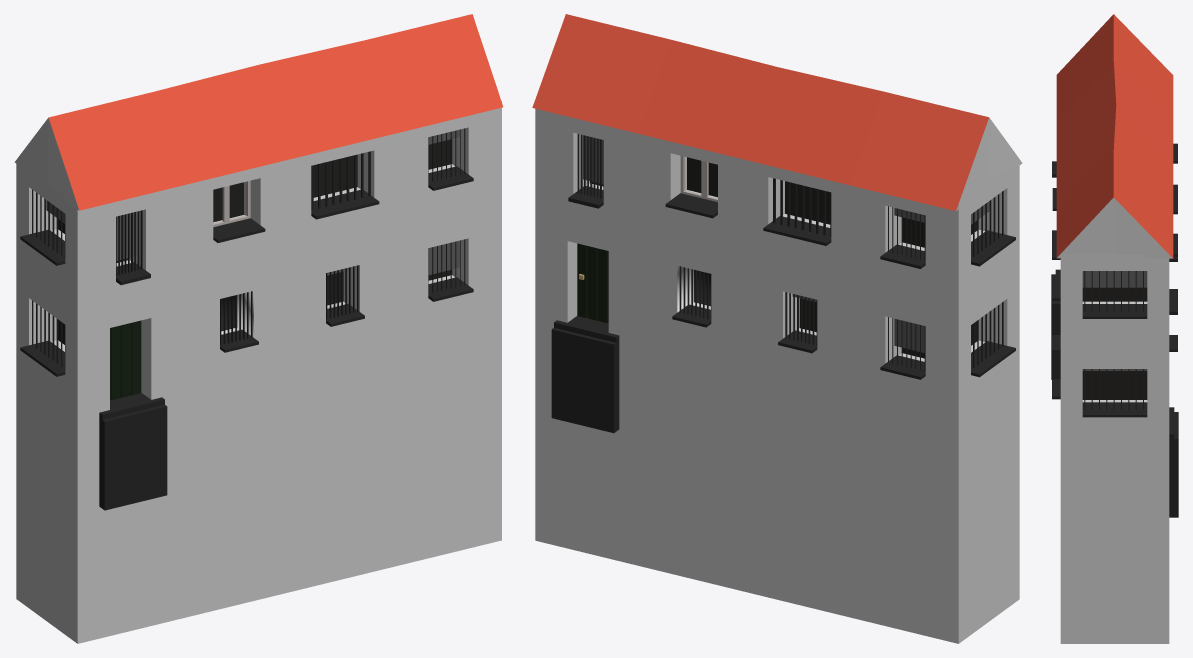
The model's file is casa_procedural_relleno_Con sotano_4.fbx.
3 renders of one model, left to right at view 1: azimuth 30°, elevation 25°; view 2: azimuth 150°, elevation 25°; view 3: azimuth 270°, elevation 25°, orthographic. The views are drawn at different scales.
Parts seen in each view (by area): view 1: casa procedural_relleno_Con sotano_4; view 2: casa procedural_relleno_Con sotano_4; view 3: casa procedural_relleno_Con sotano_4.
Boxes of the visible parts, x1,y1,x2,y2 form: casa procedural_relleno_Con sotano_4: (14, 14, 503, 643); casa procedural_relleno_Con sotano_4: (532, 14, 1022, 643); casa procedural_relleno_Con sotano_4: (1051, 14, 1178, 643).
Size of the model in its own units: 416 by 455 by 118.
